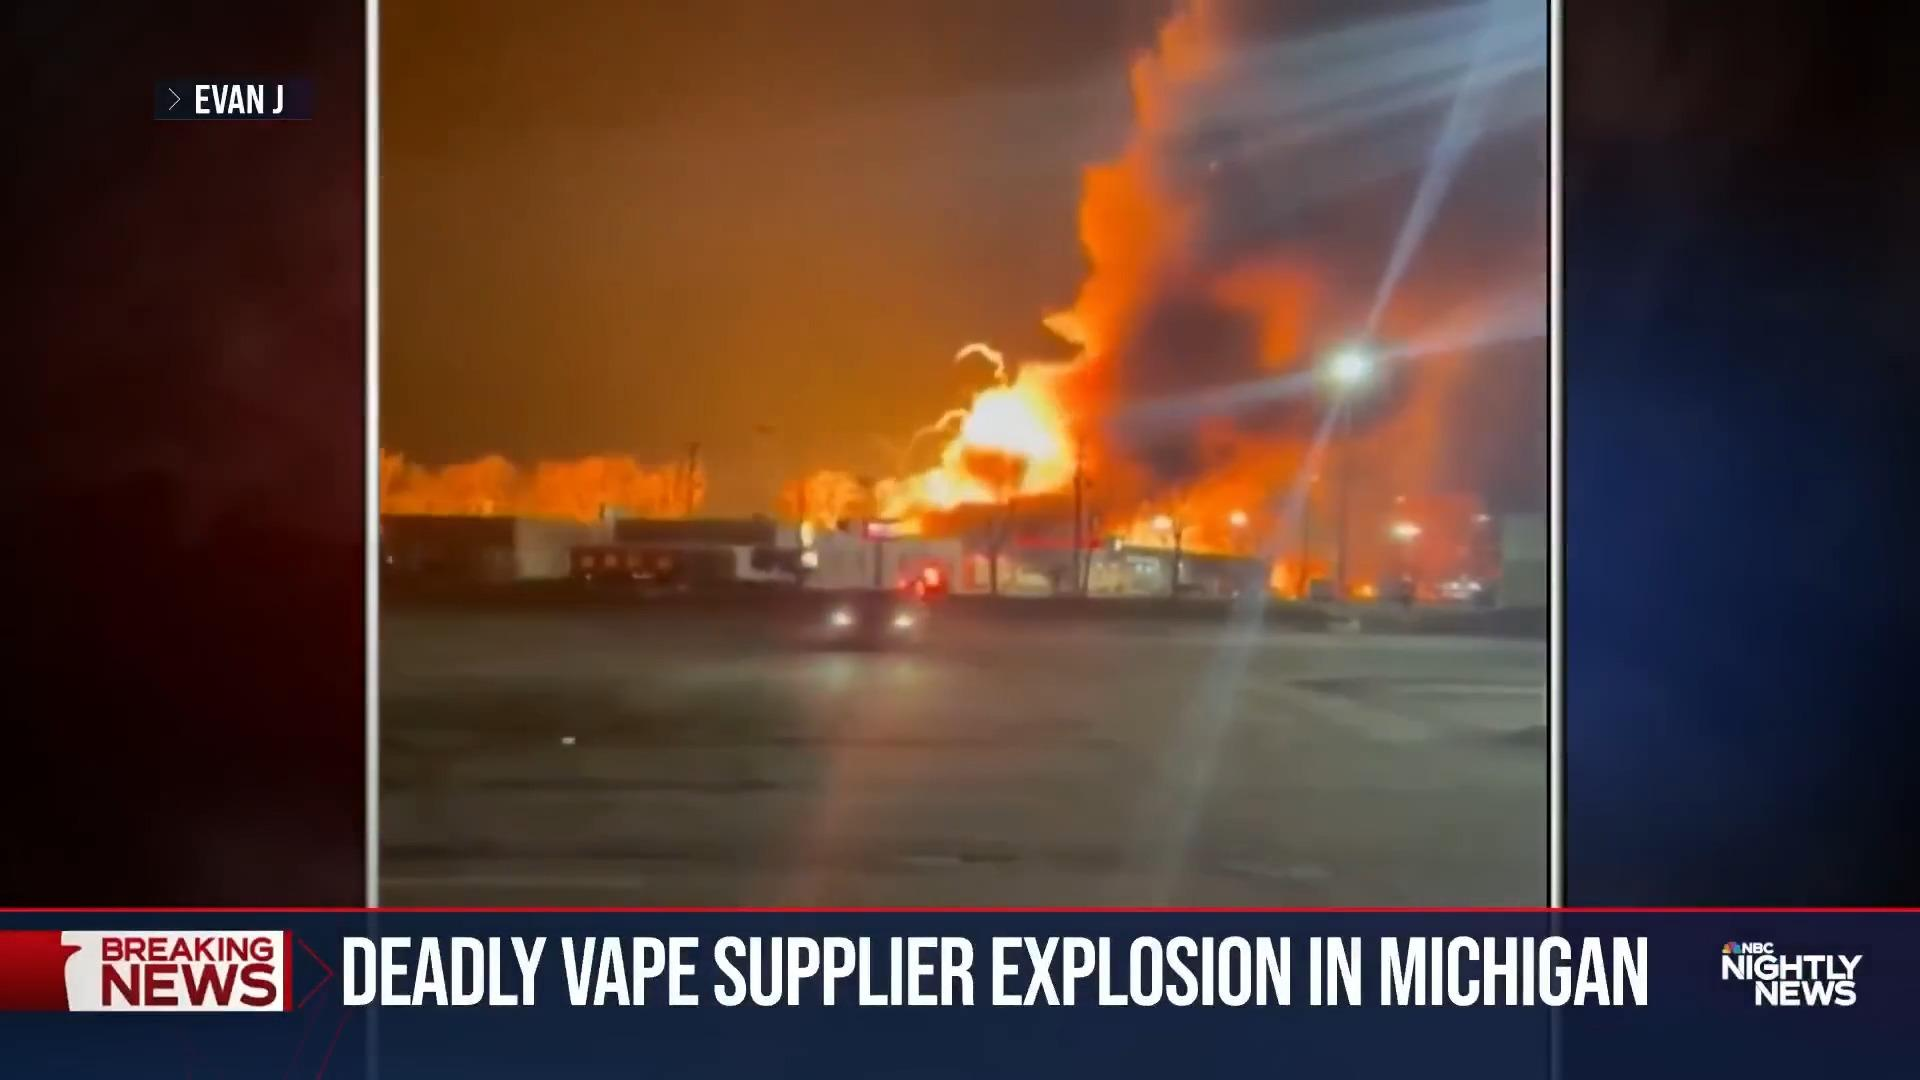fire: (824, 15, 1540, 563)
